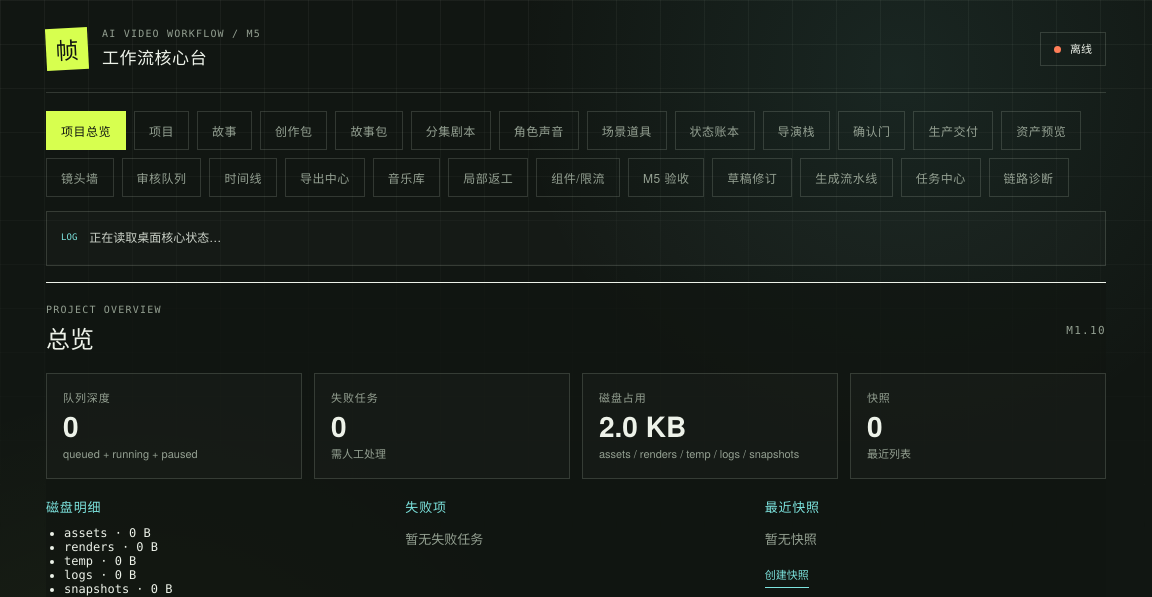
Test: M1 shell › creates a project through the workspace panel
Click the button "项目". click: (162, 130)
box: top-left (134, 111), bottom-right (189, 150)
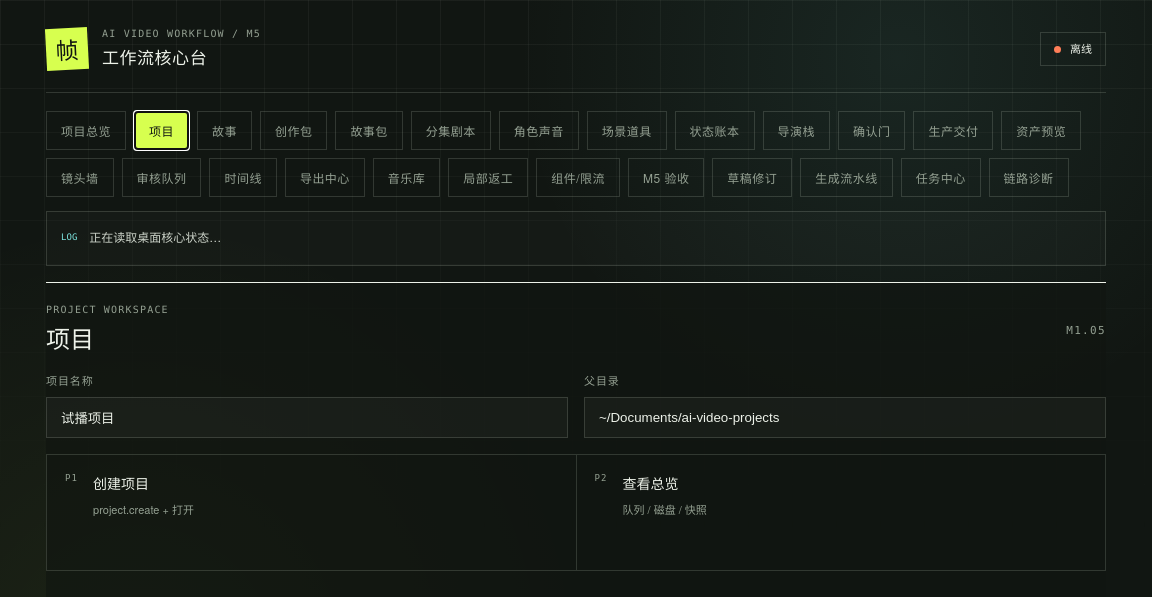
Click the button "P1 创建项目 project.create + 打开". click: (121, 483)
box: top-left (47, 455), bottom-right (576, 571)
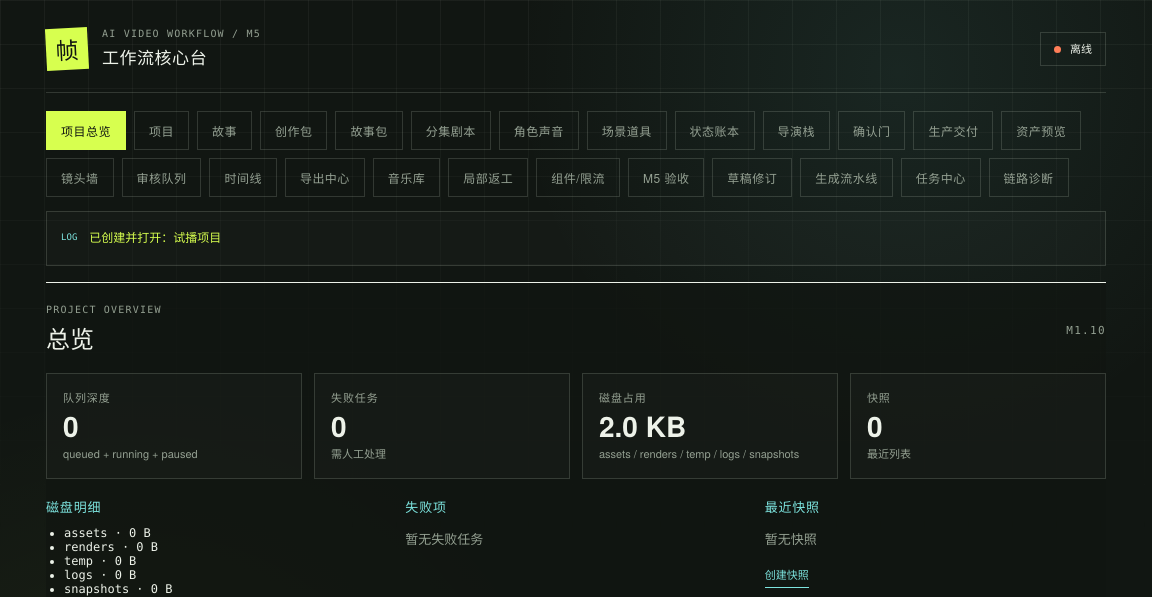
Result: the text "已创建并打开：试播项目" is shown at top-left (89, 229), bottom-right (221, 248)
Result: the heading "总览" is shown at top-left (46, 328), bottom-right (94, 354)
Result: the text "2.0 KB" is shown at top-left (599, 405), bottom-right (686, 446)
